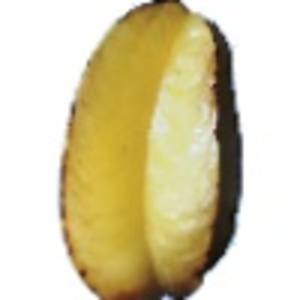carambola: (59, 1, 244, 300)
